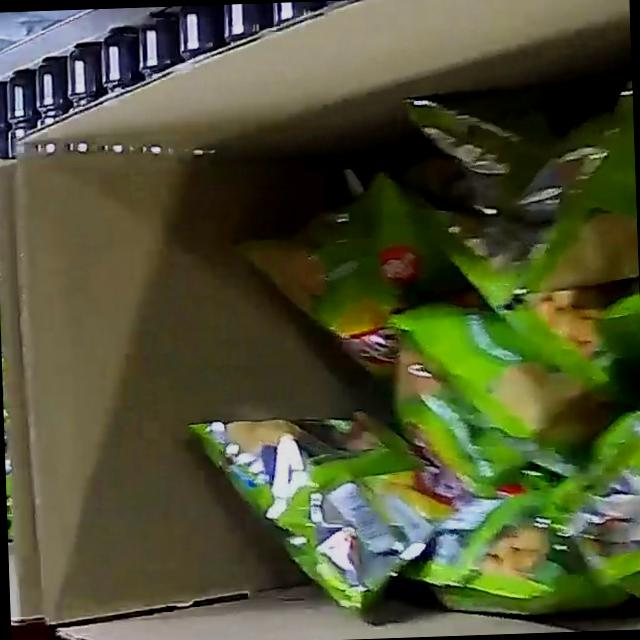yogurt: (171, 18, 640, 633)
